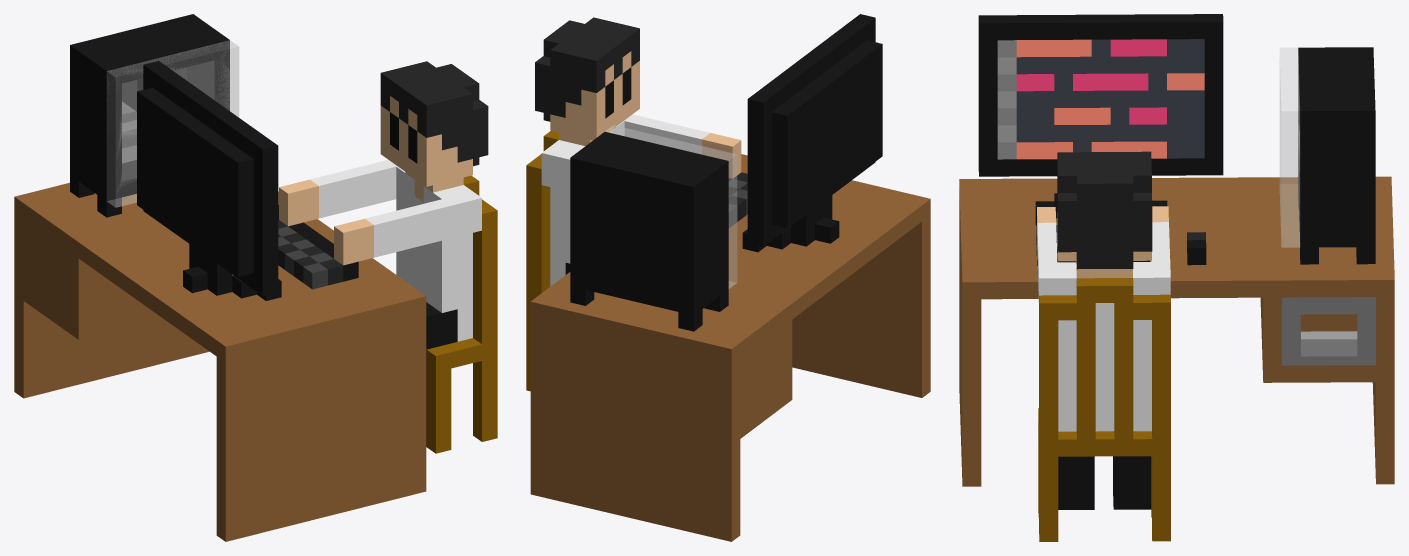
3 views of the same model, side by side, from view 1: azimuth 30°, elevation 25°; view 2: azimuth 150°, elevation 25°; view 3: azimuth 270°, elevation 25° (orthographic). The views are drawn at different scales.
Parts seen in each view (by area): view 1: desktop.001, glass_panel; view 2: desktop.001, glass_panel; view 3: desktop.001, screen, glass_panel.
Boxes of the visible parts, x1=… form: desktop.001: x1=14, y1=14, x2=497, y2=541; glass_panel: x1=107, y1=40, x2=238, y2=207; desktop.001: x1=526, y1=14, x2=930, y2=541; glass_panel: x1=605, y1=125, x2=736, y2=288; desktop.001: x1=959, y1=14, x2=1394, y2=541; screen: x1=997, y1=39, x2=1204, y2=159; glass_panel: x1=1280, y1=48, x2=1299, y2=247.
Size of the model in its own units: 2.03 by 2.3 by 2.32.
3 materials, 3 textured.
